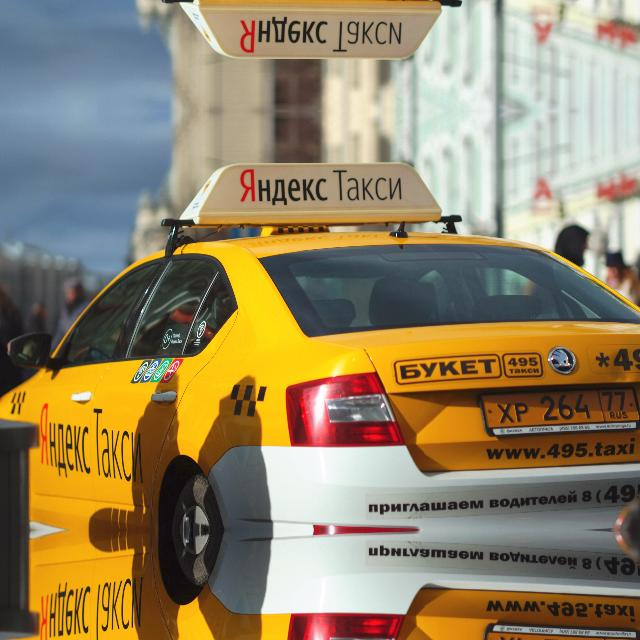taxi: (475, 379, 639, 439), (475, 620, 639, 640)
